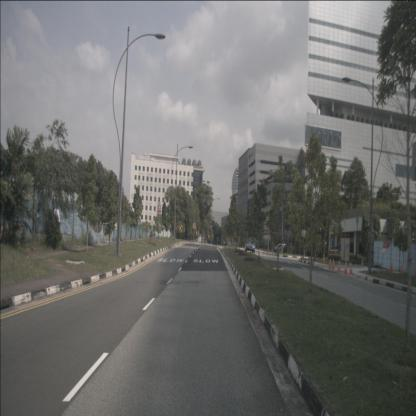cone: (349, 262, 353, 276), (338, 260, 342, 272), (344, 262, 348, 274), (328, 258, 332, 270), (413, 263, 416, 278), (390, 260, 393, 274), (322, 254, 326, 264), (360, 257, 364, 267), (331, 259, 335, 269), (400, 262, 403, 274)
